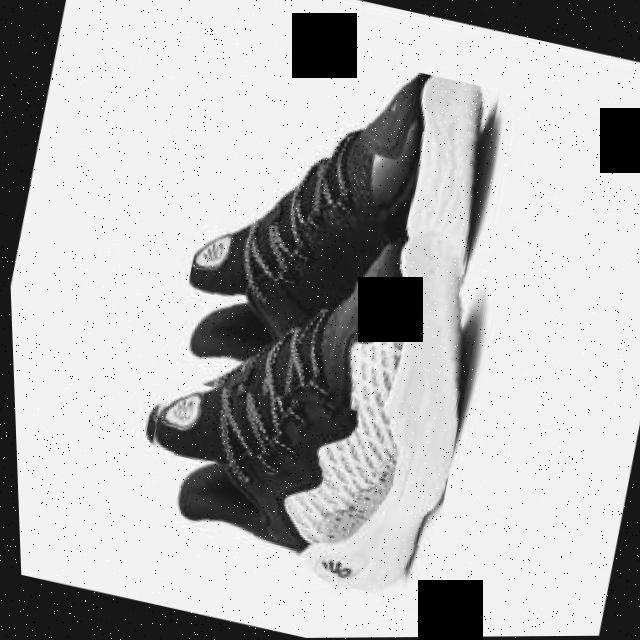shoe: (110, 198, 496, 606), (156, 31, 509, 440)
